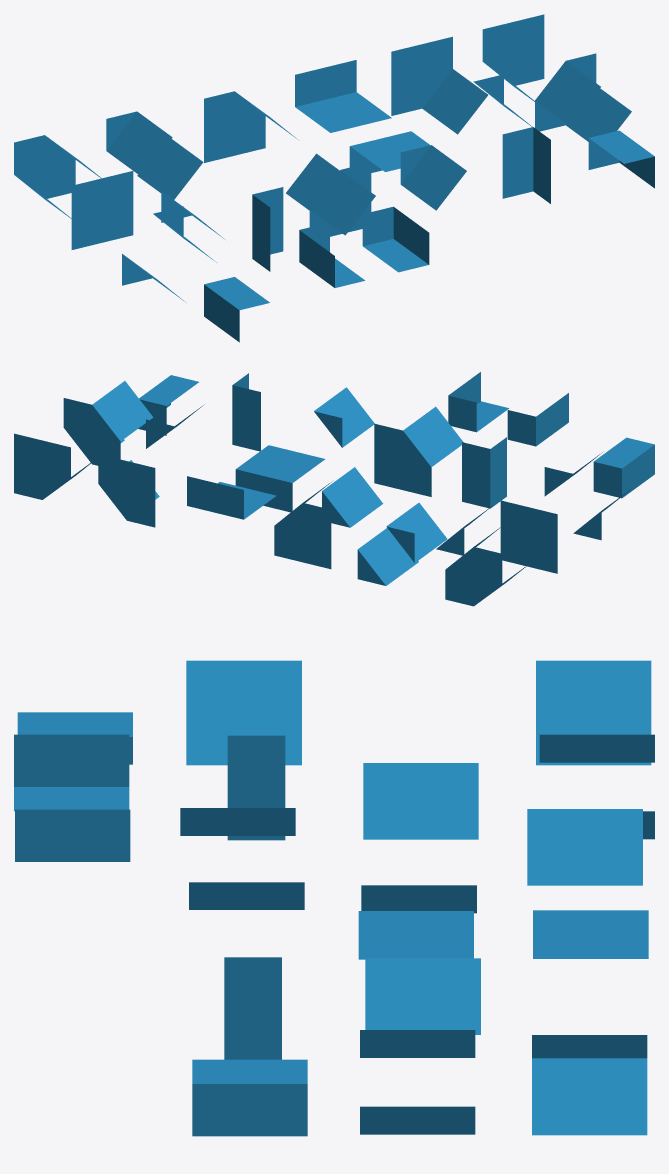
Rendered from ms-raised.glb.
3 views of the same model, one above another, from view 1: azimuth 30°, elevation 25°; view 2: azimuth 150°, elevation 25°; view 3: azimuth 270°, elevation 25° (orthographic). The views are drawn at different scales.
Visible parts, largest first — view 1: case-13, case-5, case-10-2, case-12, case-15, case-14, case-11, case-m4, case-9, case-7, case-10-1, case-8 (+8 smaller); view 2: case-7, case-5, case-10-2, case-15, case-3, case-11, case-14, case-13, case-m2, case-10-1, case-6, case-12 (+9 smaller); view 3: case-5-2, case-10-1, case-m1, case-14, case-1, case-11, case-m3, case-4, case-5, case-m4, case-9, case-12 (+8 smaller).
Boxes of the visible parts, x1,y1,x2,y2 form: case-13: (391,36,487,134); case-5: (535,53,631,141); case-10-2: (106,111,203,199); case-12: (295,60,391,132); case-15: (71,171,133,249); case-14: (482,14,544,101); case-11: (204,91,299,162); case-m4: (362,206,429,272); case-9: (502,127,550,203); case-7: (309,162,375,236); case-10-1: (14,135,101,218); case-8: (400,145,466,210); case-7: (374,406,463,496); case-5: (63,381,153,465); case-10-2: (357,502,447,585); case-15: (500,500,557,573); case-3: (235,445,325,512); case-11: (274,480,333,569); case-14: (14,433,97,499); case-13: (98,454,159,527); case-m2: (593,437,654,498); case-10-1: (445,524,531,606); case-6: (462,437,506,508); case-12: (187,476,276,519); case-5-2: (186,660,301,765); case-10-1: (536,660,651,765); case-m1: (192,1059,307,1136); case-14: (532,1058,647,1135); case-1: (363,763,478,839); case-11: (527,809,642,885); case-m3: (14,734,129,811); case-4: (365,958,480,1034); case-5: (360,1030,475,1134); case-m4: (15,809,130,861); case-9: (224,957,281,1059); case-12: (533,910,648,958).
Size of the model in its own units: 8.6 by 1 by 5.55.
